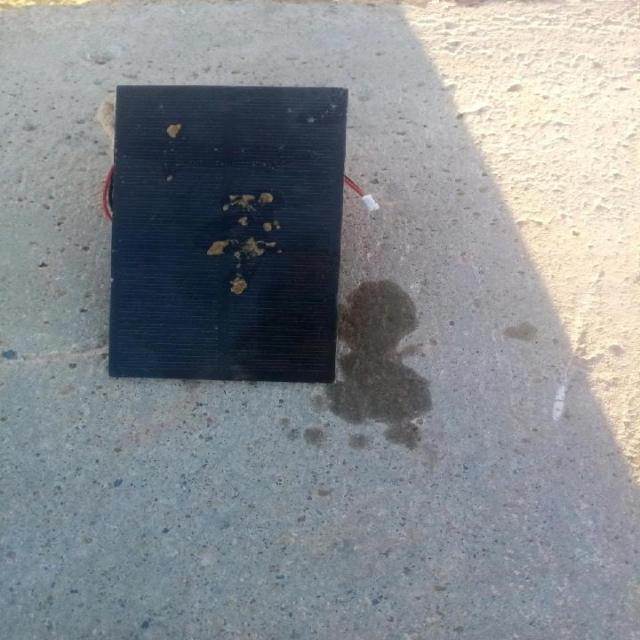faulty: (113, 77, 338, 373)
